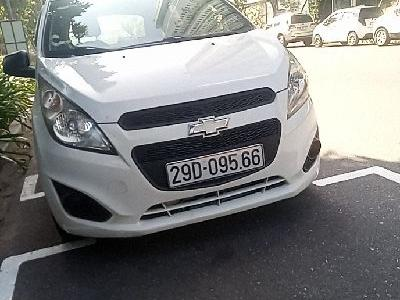number: (166, 143, 263, 187)
